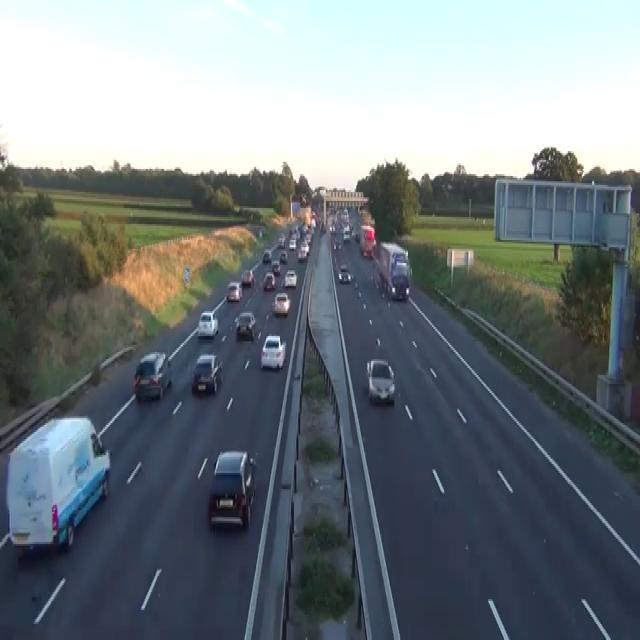Car: (208, 450, 256, 530), (133, 350, 172, 400), (366, 358, 395, 403), (191, 352, 222, 393), (260, 332, 286, 370), (234, 311, 256, 340), (390, 270, 409, 300), (197, 311, 218, 338), (392, 251, 412, 279), (272, 292, 290, 314), (373, 270, 386, 297), (226, 281, 242, 302), (262, 270, 276, 290), (338, 263, 351, 283), (283, 268, 297, 286), (241, 268, 254, 286), (393, 251, 407, 265), (262, 249, 272, 263), (270, 260, 280, 274), (297, 246, 306, 260), (363, 245, 372, 258), (277, 233, 285, 247), (279, 249, 287, 263), (288, 236, 296, 249), (343, 229, 350, 242), (333, 238, 341, 249), (329, 222, 335, 233), (303, 242, 309, 252), (355, 231, 360, 242), (320, 222, 325, 233), (351, 228, 356, 238), (258, 228, 262, 236)
Truck: (6, 414, 111, 558), (375, 242, 411, 300), (359, 224, 376, 258)
